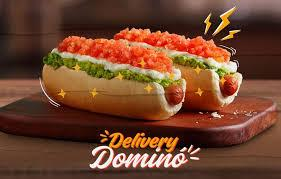Completos: (36, 35, 185, 120)
